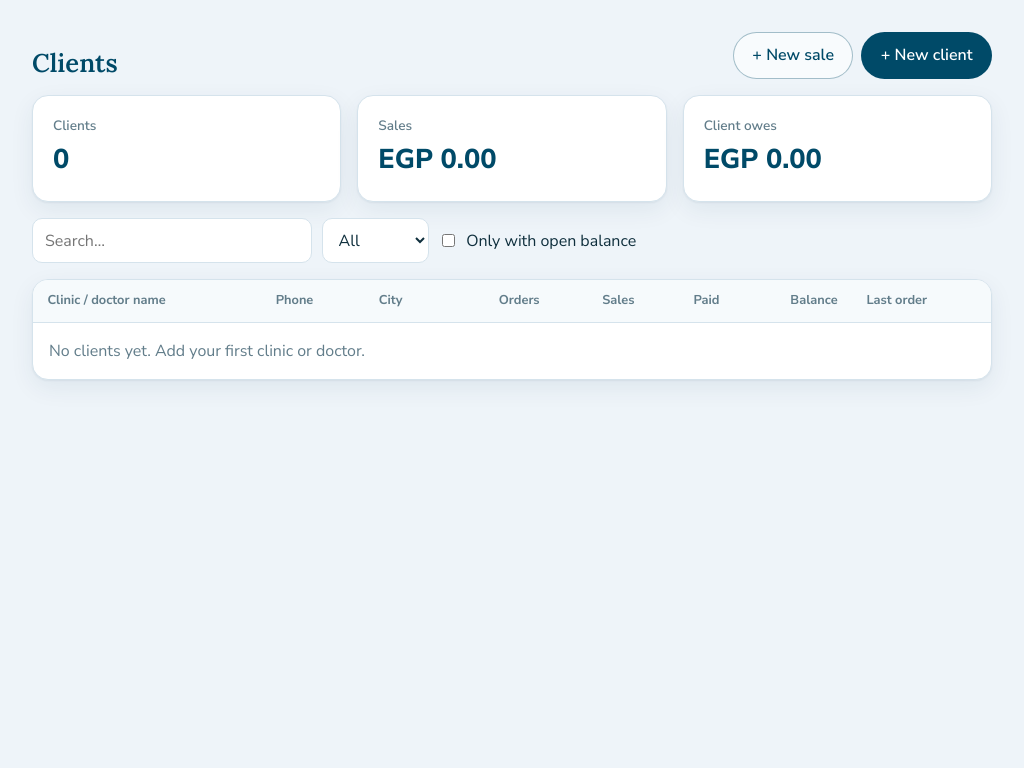
Test: Clients page › adding a client opens their account
This screenshot has width=1024, height=768.
Expected: the text "No clients yet. Add your first clinic or doctor." is shown, top-left (49, 340), bottom-right (365, 362)
Click the button "+ New client" at (927, 55), box top-left (861, 32), bottom-right (992, 79)
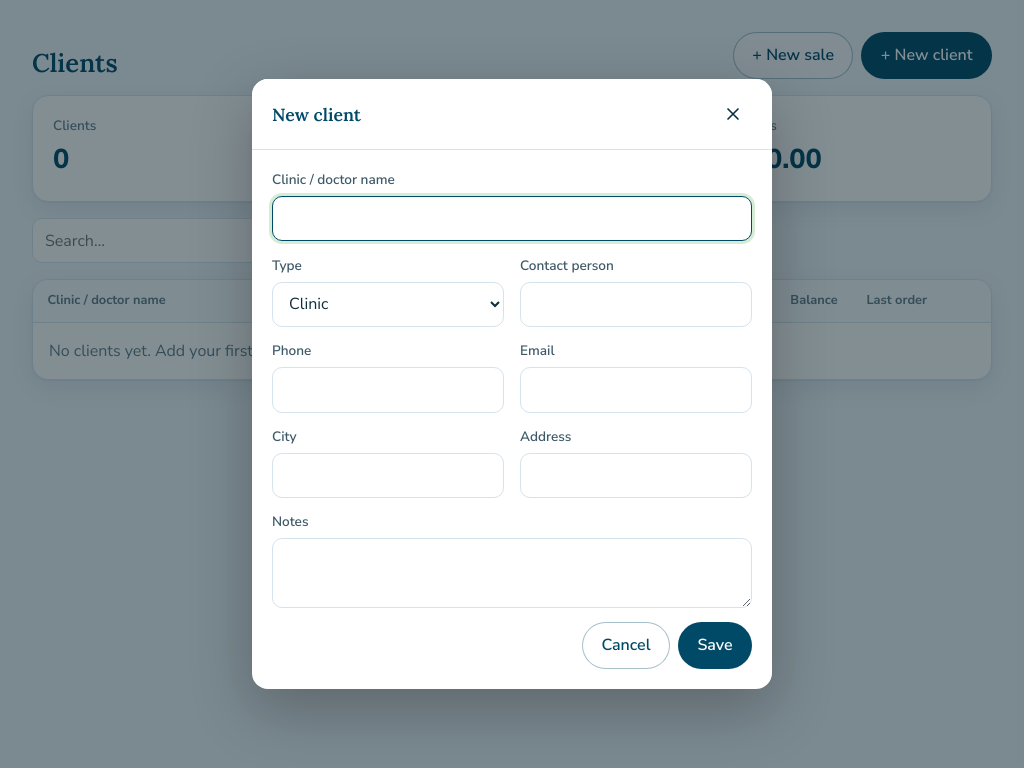
Type "New Lab" into the field labelled "Clinic / doctor name" at (512, 219), box top-left (272, 196), bottom-right (752, 241)
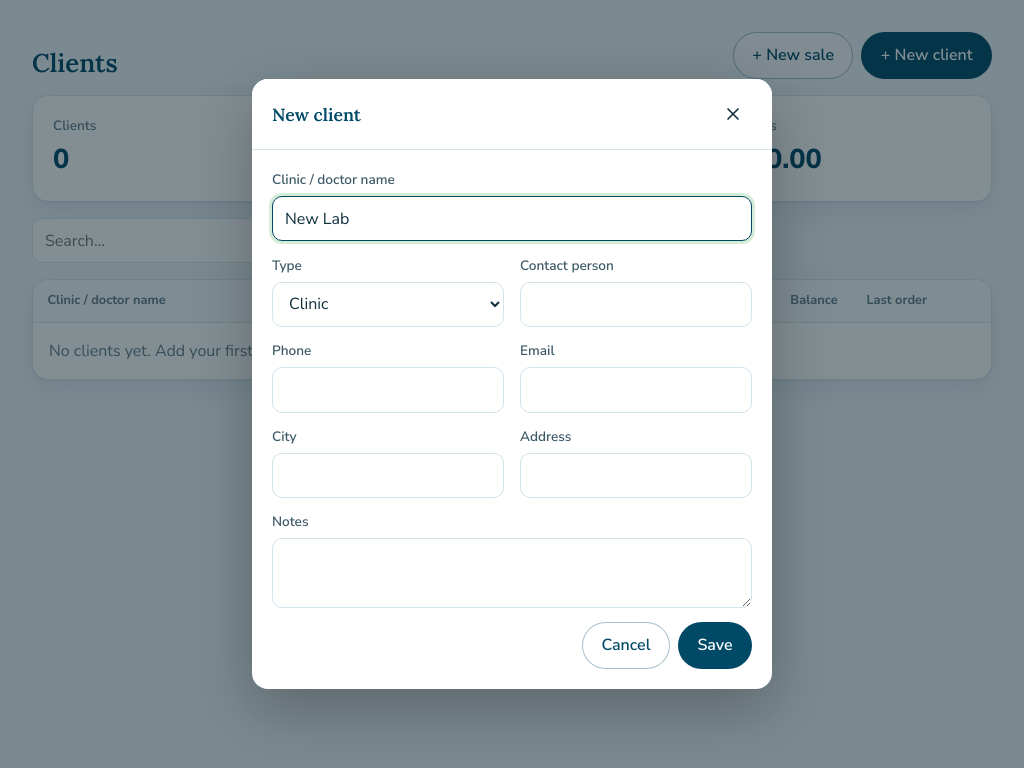
Select "Lab" in the dropdown labelled "Type" at (388, 304), box top-left (272, 282), bottom-right (504, 327)
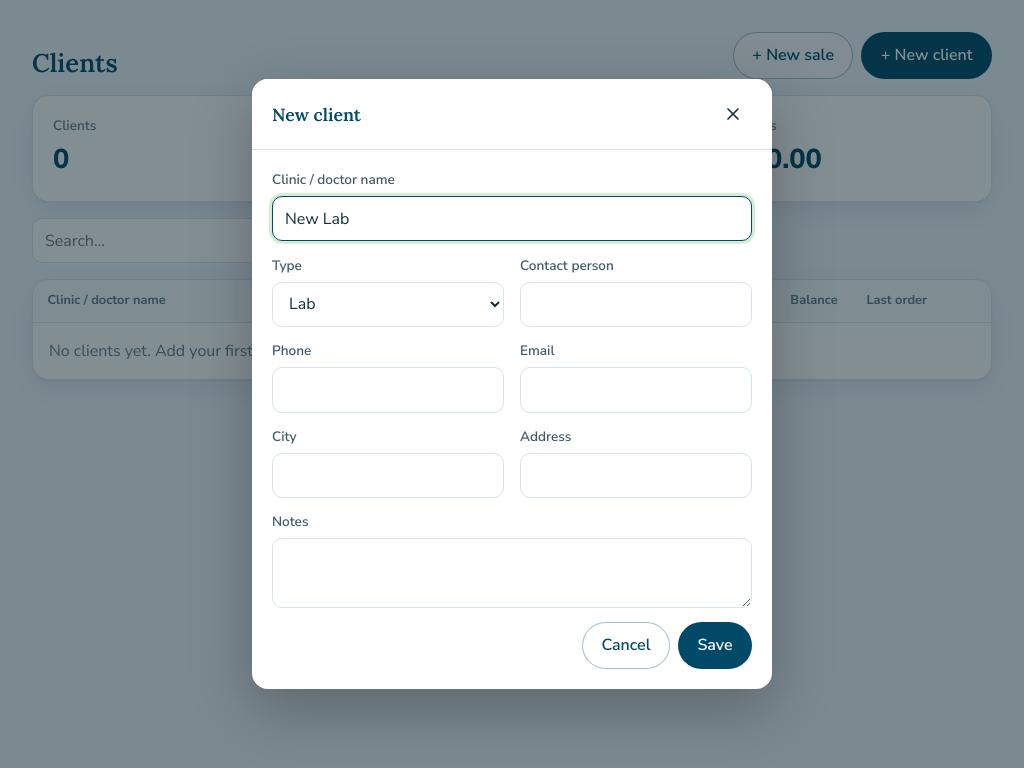
Type "+20 155 000" into the field labelled "Phone" at (388, 390), box top-left (272, 367), bottom-right (504, 412)
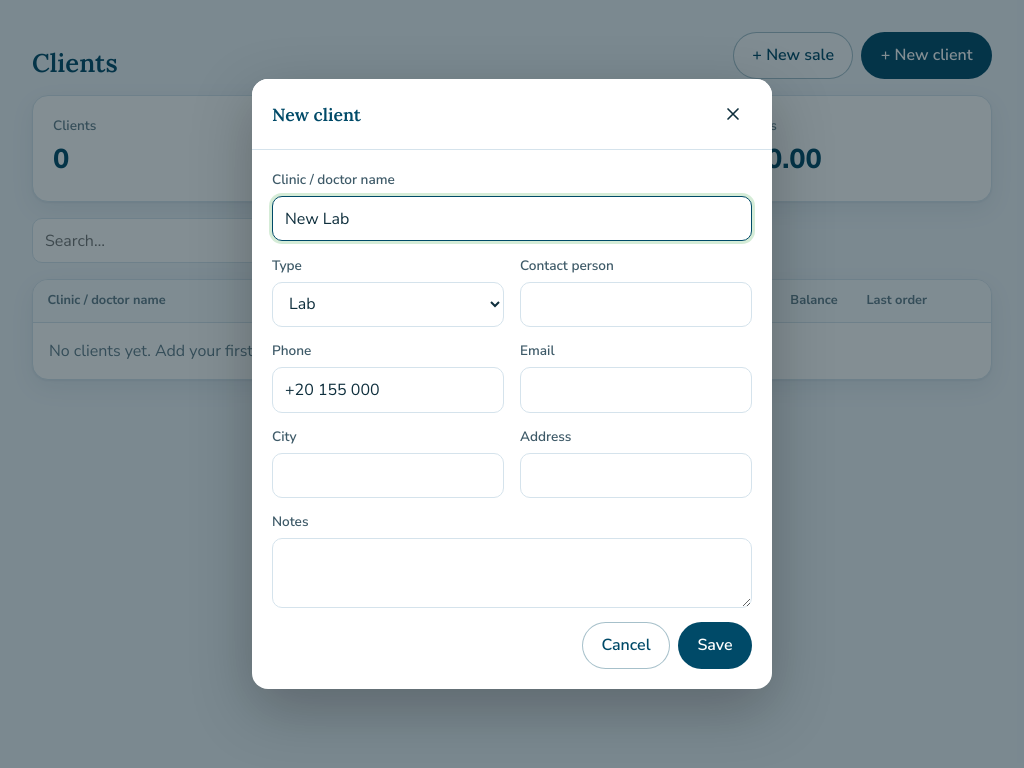
Click the button "Save" at (715, 645), box top-left (678, 622), bottom-right (752, 669)
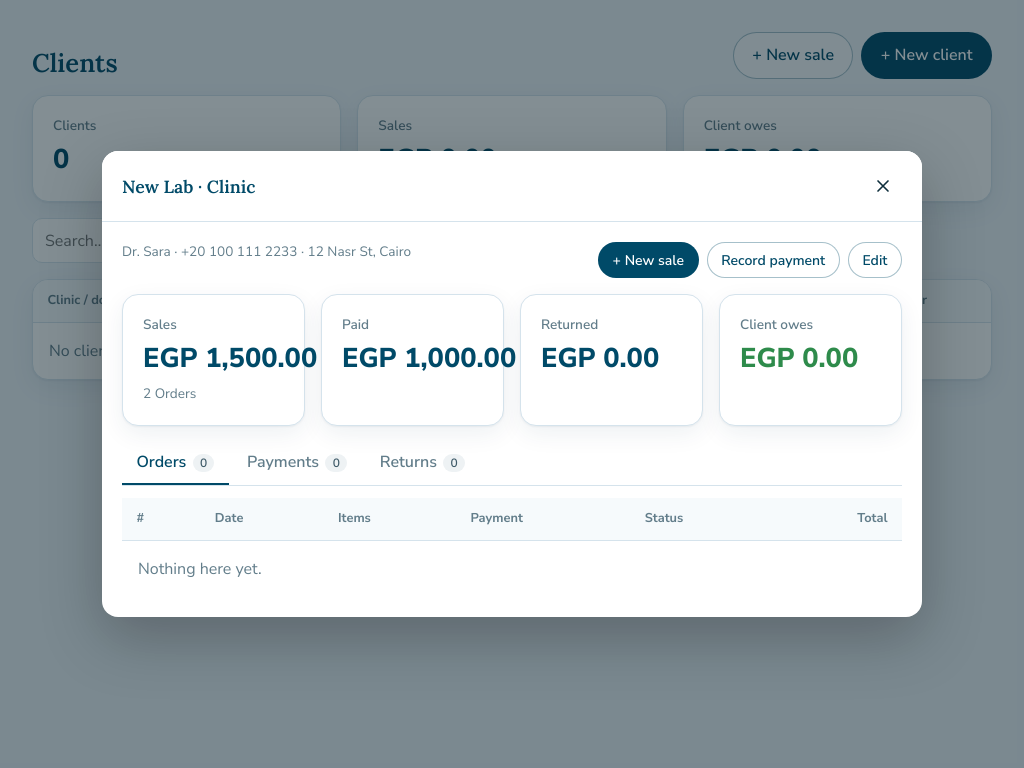
Result: the heading "New Lab · Clinic" is shown at top-left (122, 176), bottom-right (255, 197)
